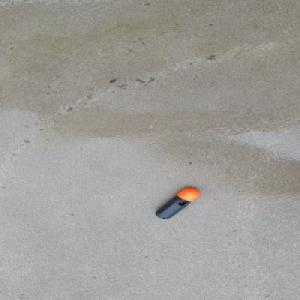PlasticPart: (154, 187, 201, 219)
